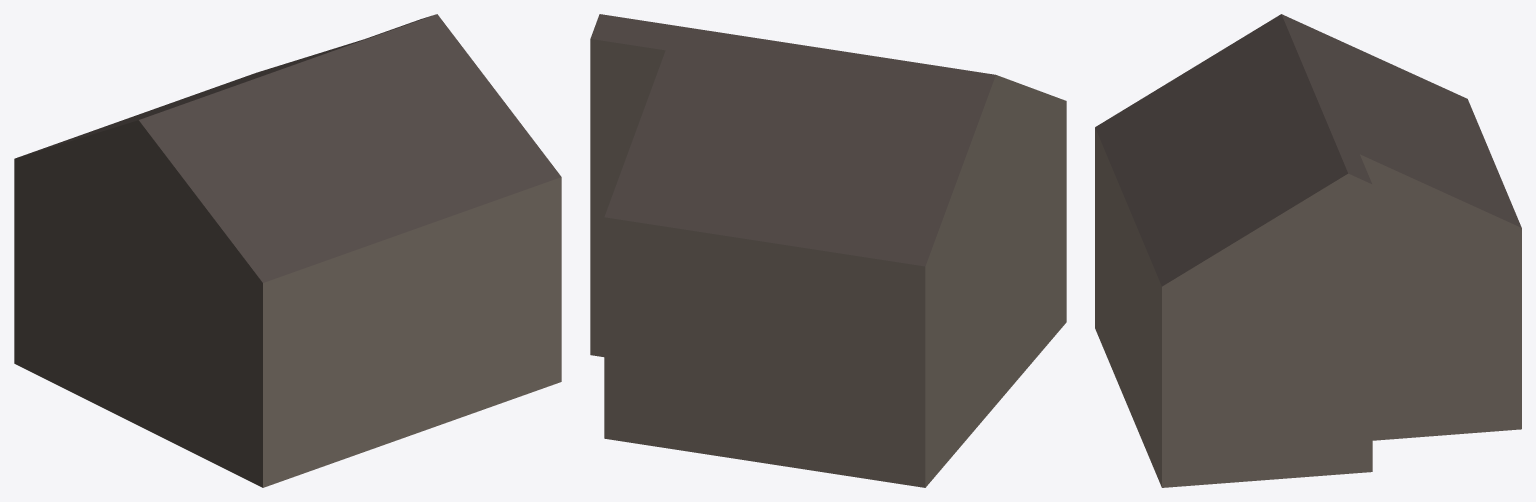
3 renders of one model, left to right at view 1: azimuth 30°, elevation 25°; view 2: azimuth 150°, elevation 25°; view 3: azimuth 270°, elevation 25°, orthographic. The views are drawn at different scales.
Parts seen in each view (by area): view 1: HP-w1376988686; view 2: HP-w1376988686; view 3: HP-w1376988686.
Part boxes in pixels (x1,y1,x2,y2): HP-w1376988686: (14,14,561,487); HP-w1376988686: (590,14,1066,487); HP-w1376988686: (1095,14,1521,487).
Bounding box in the file's own units: 12.01 × 8.95 × 11.53.
